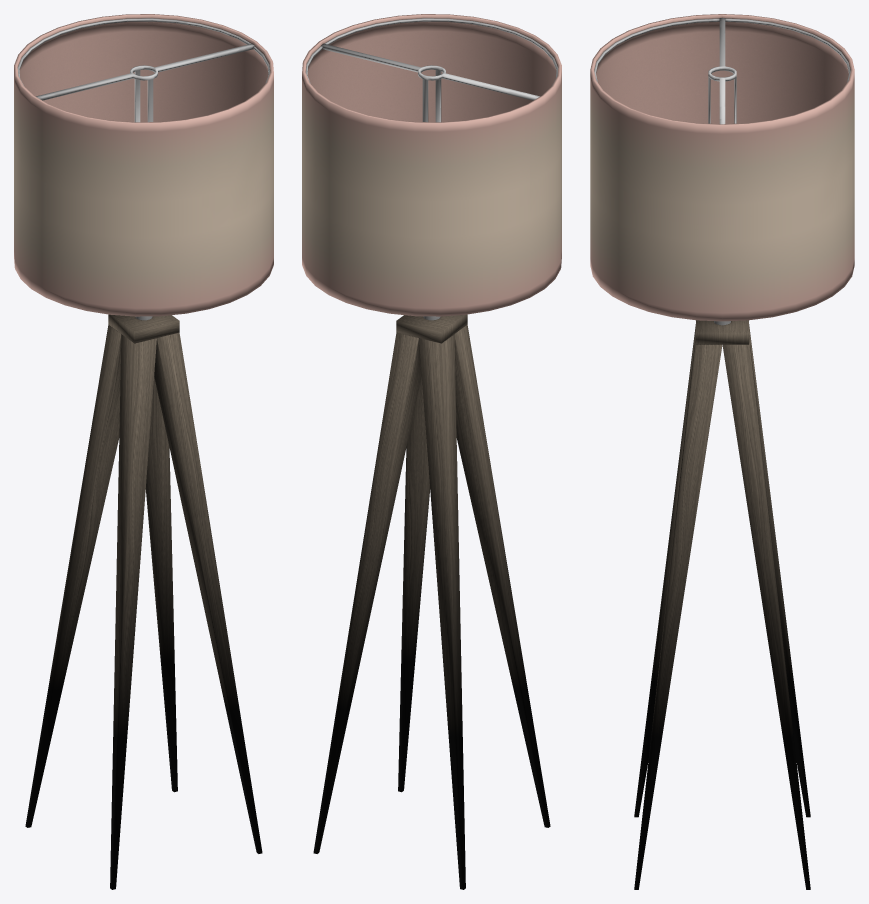
Rendered from lamp.dae.
3 views of the same model, side by side, from view 1: azimuth 30°, elevation 25°; view 2: azimuth 150°, elevation 25°; view 3: azimuth 270°, elevation 25° (orthographic).
Parts seen in each view (by area): view 1: Lamp; view 2: Lamp; view 3: Lamp.
Part boxes in pixels (<box>): Lamp: <box>14,14,273,889</box>; Lamp: <box>302,14,561,889</box>; Lamp: <box>590,14,854,889</box>.
Size of the model in its own units: 0.42 by 0.42 by 1.37.
1 material, 1 textured.
